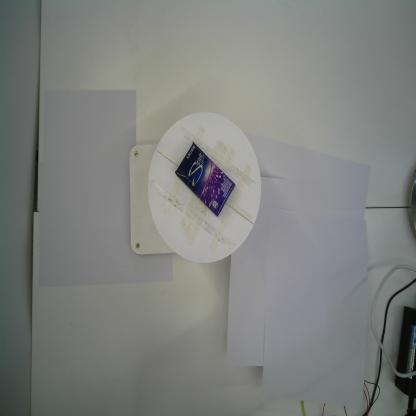Gum: (173, 140, 236, 218)
